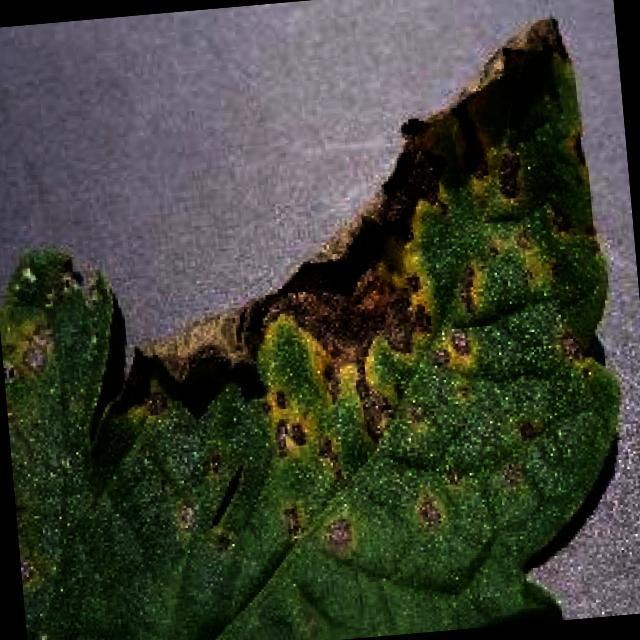Tomato Septoria spot leaf: (0, 7, 639, 640)
